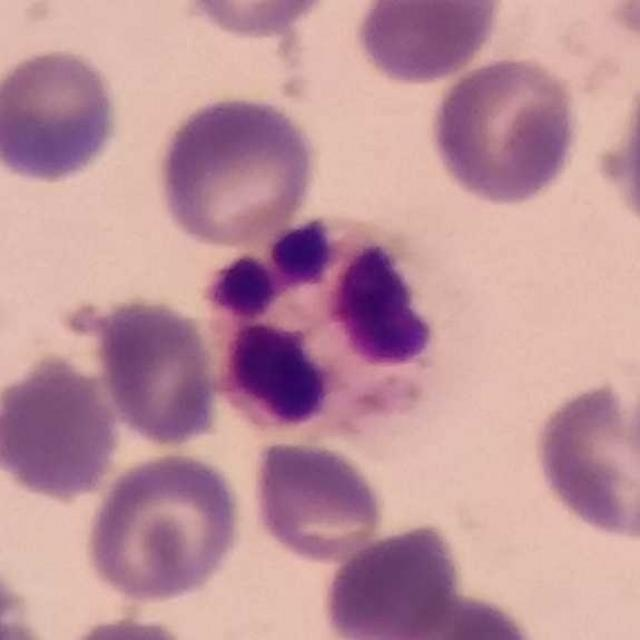Neutrophil: (196, 208, 452, 453)
RBC: (152, 91, 320, 252), (80, 447, 247, 608), (425, 54, 586, 210), (91, 292, 224, 450), (526, 373, 640, 545), (0, 348, 122, 502), (246, 436, 390, 566), (316, 518, 465, 640), (0, 44, 124, 186), (350, 0, 506, 87), (330, 585, 546, 640), (596, 51, 640, 251), (176, 0, 339, 40), (49, 613, 207, 640), (581, 0, 640, 46)
